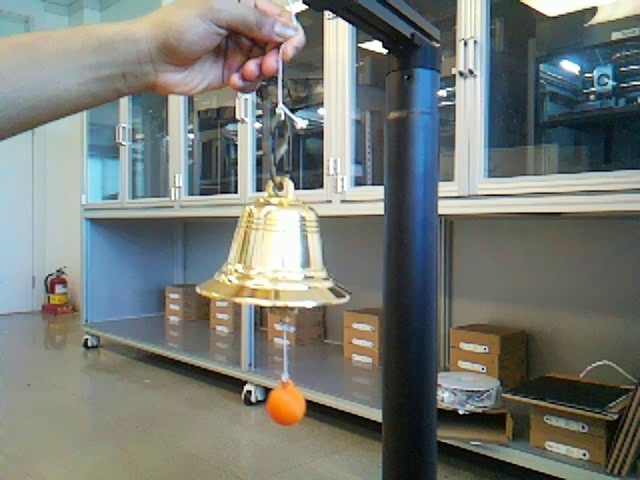bell: (195, 175, 349, 307)
pole: (382, 79, 442, 478)
